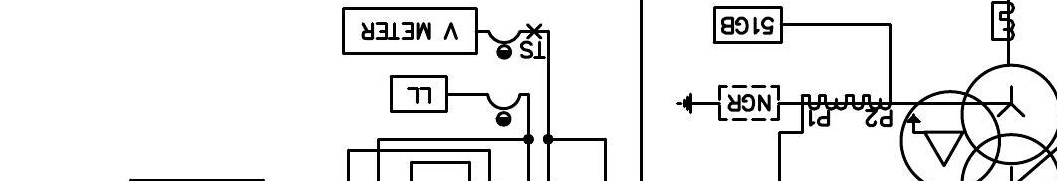LL: (389, 74, 449, 114)
NGR_future: (675, 84, 781, 121)
v_m_digital: (341, 6, 479, 56)
